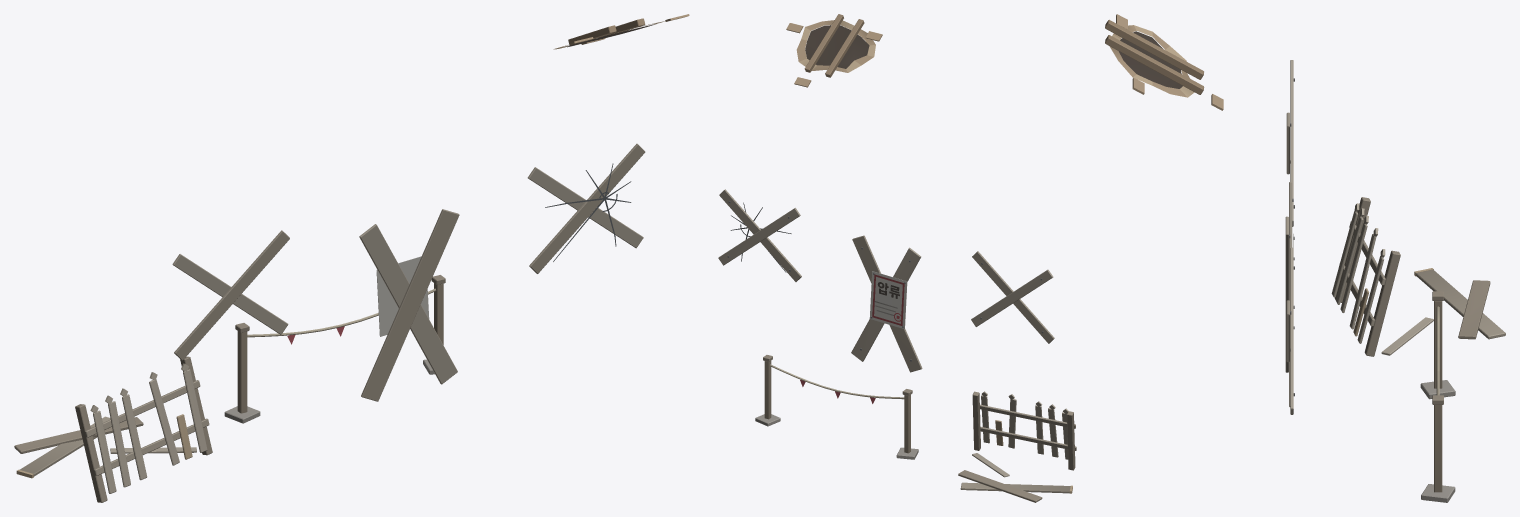
Rendered from house_seized_house.glb.
3 views of the same model, side by side, from view 1: azimuth 30°, elevation 25°; view 2: azimuth 150°, elevation 25°; view 3: azimuth 270°, elevation 25° (orthographic). The views are drawn at different scales.
Bounding box in the file's own units: 6.01 × 4.66 × 3.43.
